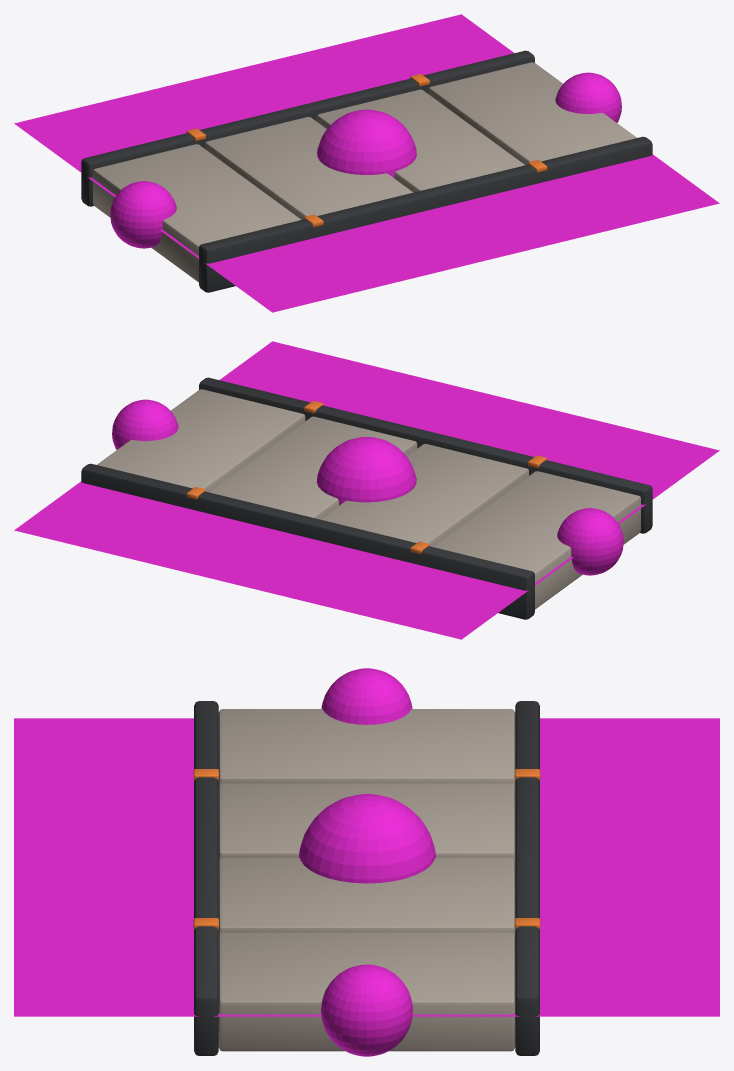
The model's file is path_2.gltf.
The picture shows the model from 3 angles, top to bottom: view 1: azimuth 30°, elevation 25°; view 2: azimuth 150°, elevation 25°; view 3: azimuth 270°, elevation 25°; orthographic projection. The views are drawn at different scales.
Visible parts, largest first — view 1: Path, %P%Footprint, %P%Center, %P%AnchorOut, %P%AnchorOut.001; view 2: Path, %P%Footprint, %P%Center, %P%AnchorOut, %P%AnchorOut.001; view 3: %P%Footprint, Path, %P%Center, %P%AnchorOut.001, %P%AnchorOut.
Part boxes in pixels (bbox=[...]): Path: bbox=[81, 50, 652, 292]; %P%Footprint: bbox=[14, 14, 719, 312]; %P%Center: bbox=[317, 109, 416, 178]; %P%AnchorOut: bbox=[110, 181, 176, 248]; %P%AnchorOut.001: bbox=[555, 72, 621, 122]; Path: bbox=[81, 377, 652, 619]; %P%Footprint: bbox=[14, 341, 719, 639]; %P%Center: bbox=[316, 437, 416, 505]; %P%AnchorOut: bbox=[557, 508, 623, 575]; %P%AnchorOut.001: bbox=[112, 399, 178, 449]; %P%Footprint: bbox=[14, 718, 719, 1016]; Path: bbox=[193, 701, 540, 1055]; %P%Center: bbox=[298, 794, 435, 883]; %P%AnchorOut.001: bbox=[321, 964, 412, 1056]; %P%AnchorOut: bbox=[321, 668, 412, 724].
Bounding box in the file's own units: 2.25 × 0.3925 × 2.
